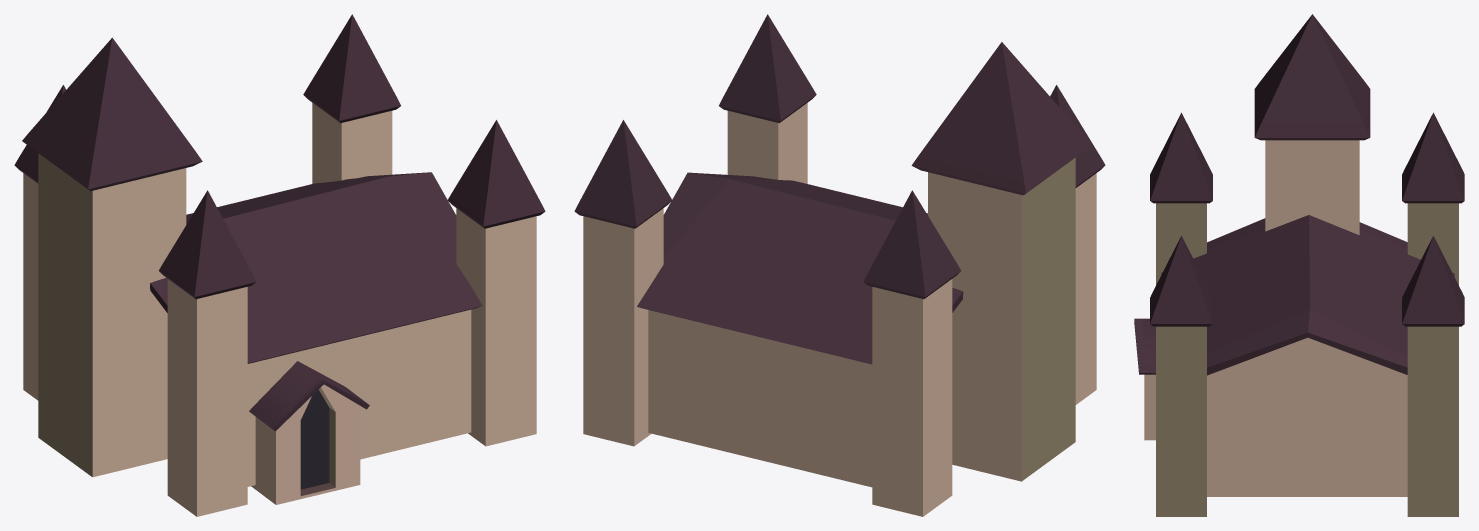
Rendered from Church_002.fbx.
3 views of the same model, side by side, from view 1: azimuth 30°, elevation 25°; view 2: azimuth 150°, elevation 25°; view 3: azimuth 270°, elevation 25° (orthographic). The views are drawn at different scales.
Parts seen in each view (by area): view 1: Church_002; view 2: Church_002; view 3: Church_002.
Boxes of the visible parts, x1=… form: Church_002: x1=14, y1=14, x2=545, y2=516; Church_002: x1=574, y1=14, x2=1105, y2=516; Church_002: x1=1134, y1=14, x2=1464, y2=516.
Size of the model in its own units: 680 by 677 by 561.
